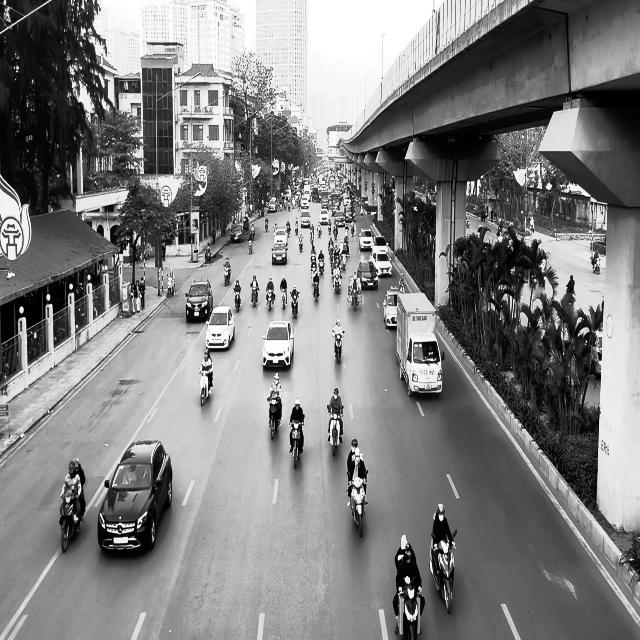car: (97, 438, 173, 553), (262, 320, 294, 370), (205, 305, 235, 350), (185, 278, 213, 322), (382, 288, 403, 328), (357, 260, 379, 289), (271, 243, 287, 264), (230, 223, 244, 242)
motorbike: (429, 528, 457, 612), (59, 484, 85, 552), (395, 576, 422, 640), (347, 472, 368, 538), (327, 405, 343, 456), (289, 419, 304, 468), (267, 397, 282, 440), (199, 369, 213, 406), (332, 329, 344, 363), (290, 290, 299, 318), (233, 286, 241, 312), (266, 288, 275, 311), (223, 265, 231, 286)
truck: (396, 291, 444, 397)
